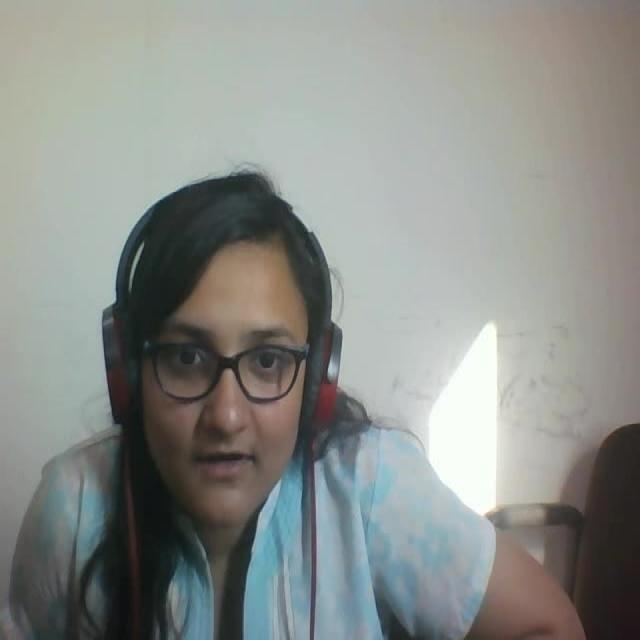Engaged: (94, 151, 353, 541)
